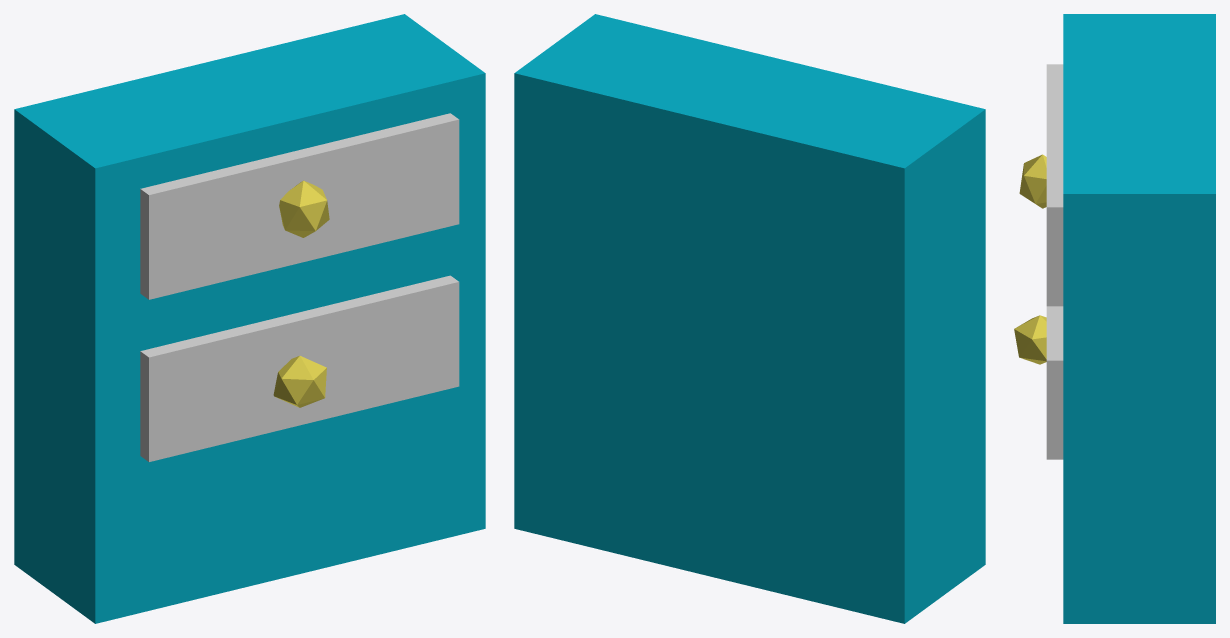
File: Project 149 Side Table Model.glb
The picture shows the model from 3 angles, left to right: view 1: azimuth 30°, elevation 25°; view 2: azimuth 150°, elevation 25°; view 3: azimuth 270°, elevation 25°; orthographic projection. The views are drawn at different scales.
Visible parts, largest first — view 1: Mesh_Mesh_head_geo.001_lambert2SG.001; view 2: Mesh_Mesh_head_geo.001_lambert2SG.001; view 3: Mesh_Mesh_head_geo.001_lambert2SG.001.
Part boxes in pixels (x1=…): Mesh_Mesh_head_geo.001_lambert2SG.001: x1=14, y1=14, x2=485, y2=623; Mesh_Mesh_head_geo.001_lambert2SG.001: x1=514, y1=14, x2=985, y2=623; Mesh_Mesh_head_geo.001_lambert2SG.001: x1=1014, y1=14, x2=1215, y2=623.
Size of the model in its own units: 78 by 87 by 37.
